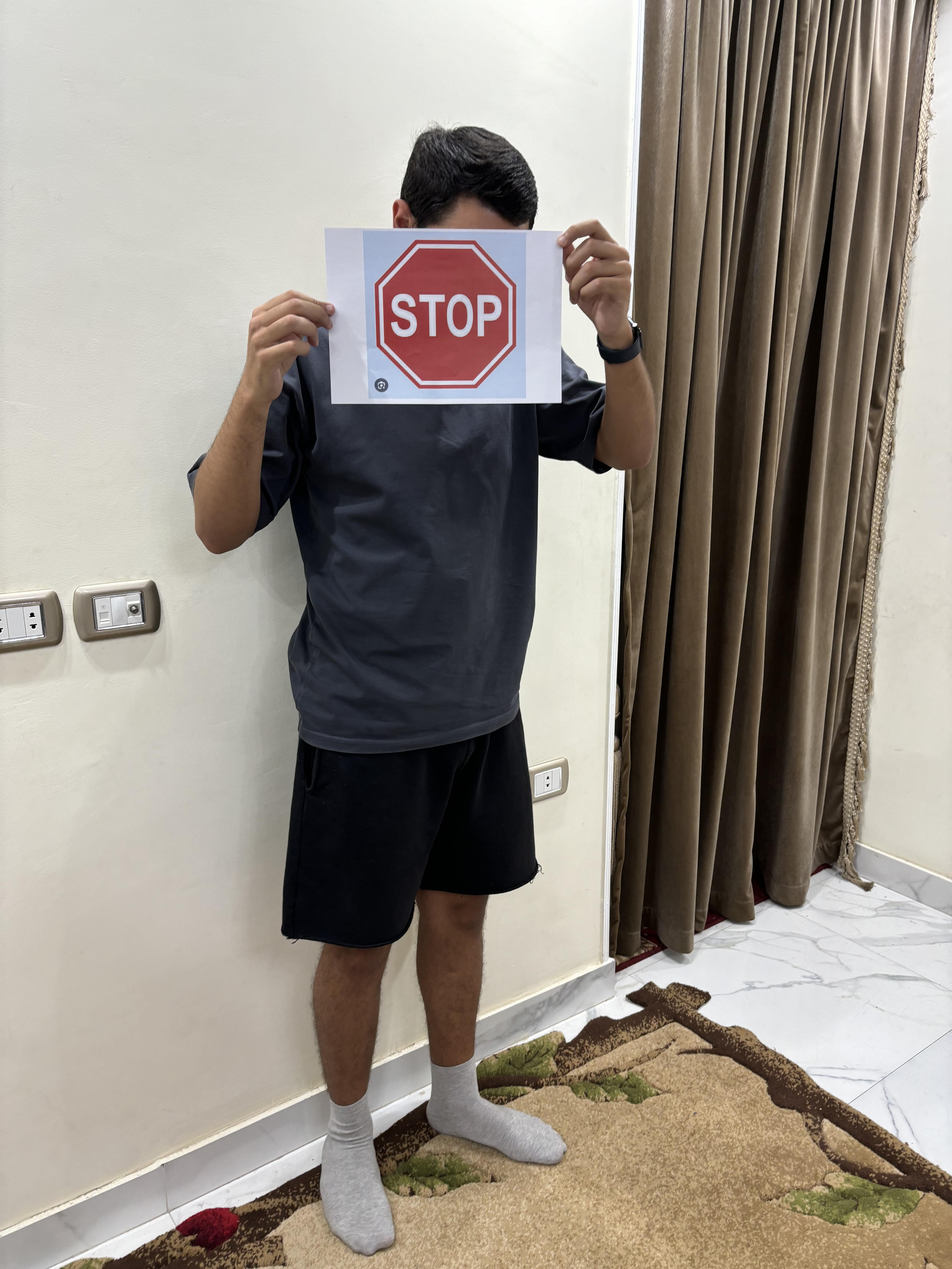Stop: (371, 236, 524, 394)
